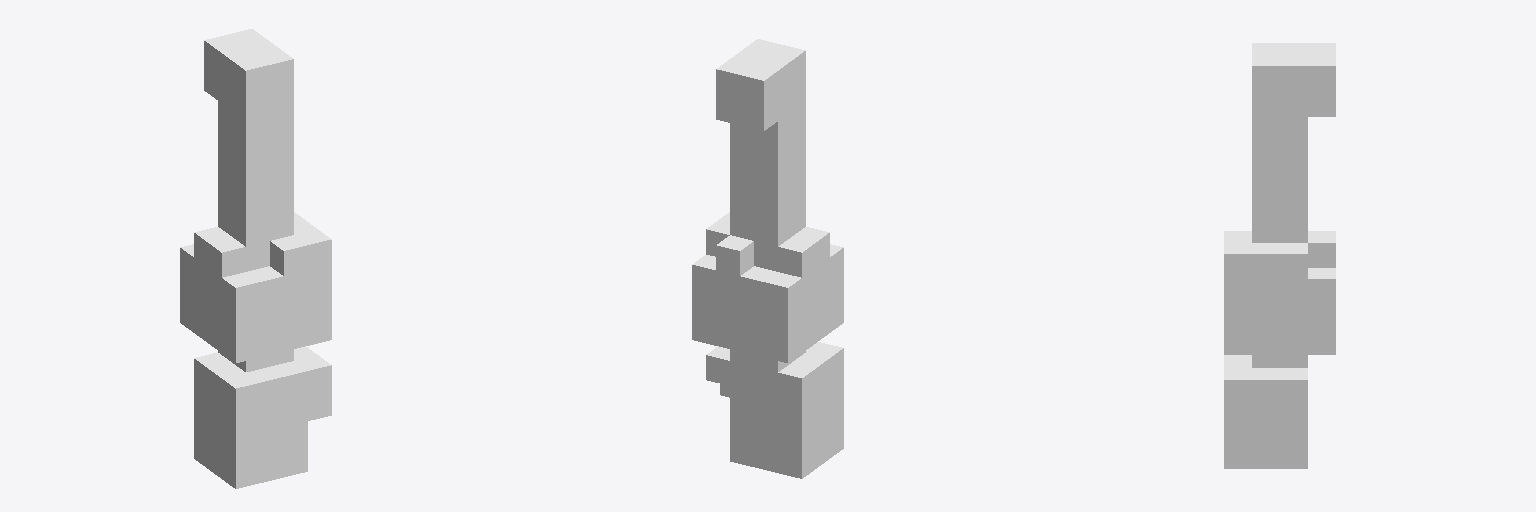
The model's file is EnemySkeleton1-5.obj.
The picture shows the model from 3 angles: view 1: azimuth 30°, elevation 25°; view 2: azimuth 150°, elevation 25°; view 3: azimuth 270°, elevation 25°; orthographic projection.
Parts seen in each view (by area): view 1: object 1; view 2: object 1; view 3: object 1.
Boxes of the visible parts, x1=… form: object 1: x1=180, y1=29, x2=331, y2=488; object 1: x1=692, y1=39, x2=843, y2=478; object 1: x1=1224, y1=43, x2=1335, y2=468.
Size of the model in its own units: 0.4 by 1.6 by 0.4.